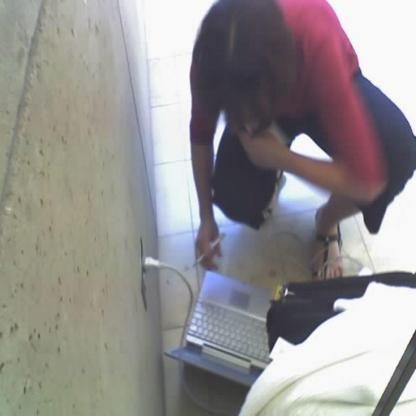board: (163, 269, 272, 391)
